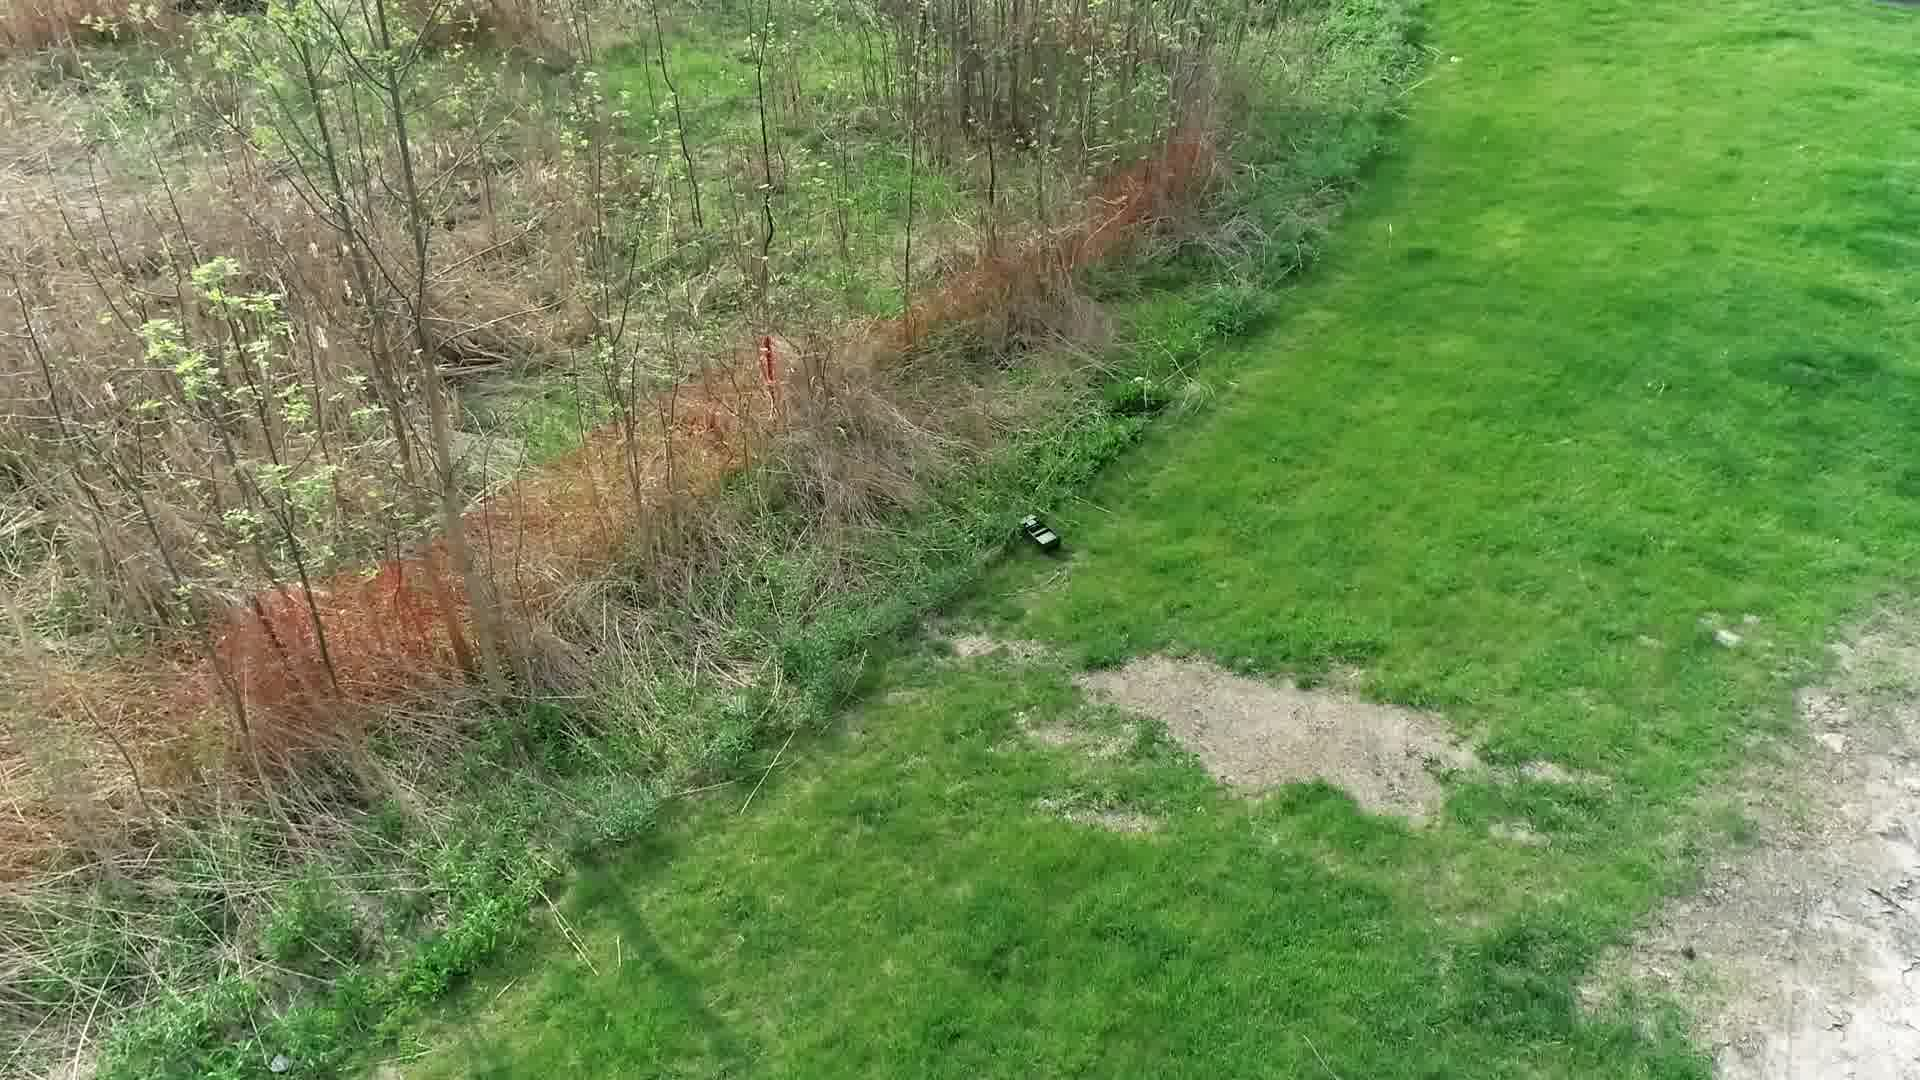transporter9: (1018, 510, 1062, 553)
